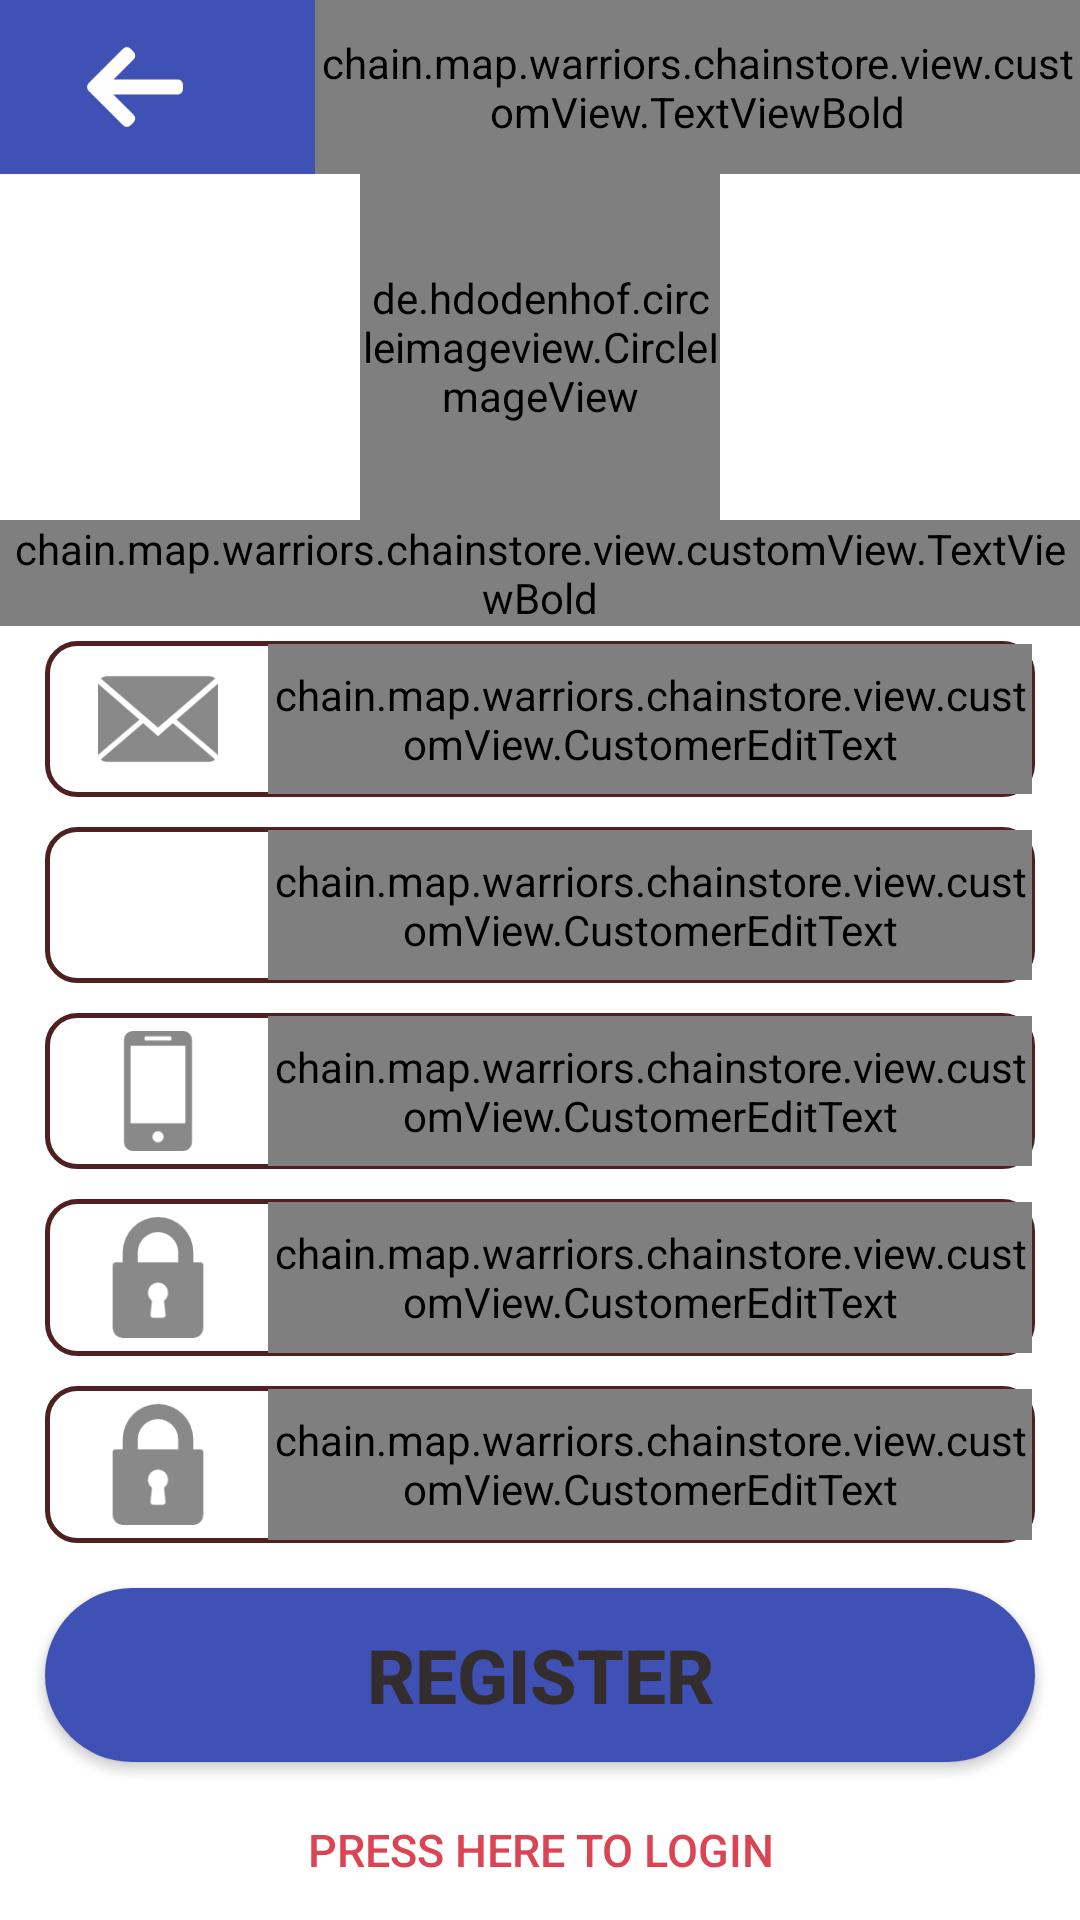

Icon click points for this 1080x1920 phone screenshot, format (x=x, y=y):
back: (x=135, y=87)
